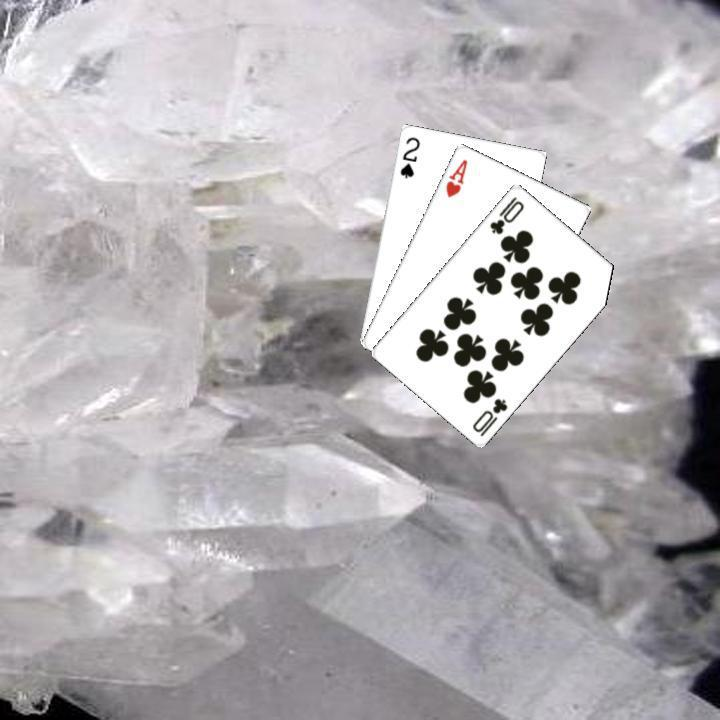10: (468, 393, 510, 438), (485, 192, 526, 236)
2: (395, 132, 422, 180)
A: (441, 154, 469, 199)
